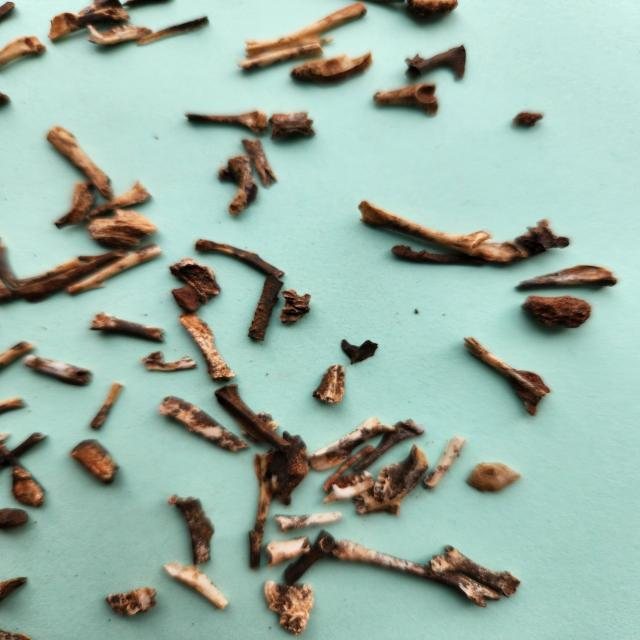fossil: (354, 197, 572, 270), (330, 535, 505, 608), (243, 1, 372, 64), (11, 247, 130, 312), (352, 438, 432, 520), (461, 332, 553, 402), (42, 121, 119, 202), (62, 242, 167, 300), (156, 393, 250, 456), (305, 414, 400, 476), (426, 542, 524, 599), (211, 382, 292, 450), (245, 446, 288, 574), (162, 490, 226, 567), (178, 308, 242, 384), (349, 416, 428, 476), (510, 287, 599, 339), (158, 561, 241, 615), (262, 427, 316, 510), (191, 236, 289, 281), (256, 575, 322, 637), (44, 0, 134, 44), (11, 251, 108, 289), (281, 528, 342, 588), (288, 47, 379, 87), (512, 262, 621, 295), (67, 434, 127, 490), (214, 149, 262, 217), (84, 178, 158, 222), (88, 206, 162, 250), (85, 308, 168, 346), (501, 362, 555, 420), (166, 255, 226, 307), (401, 41, 471, 85), (243, 274, 287, 344), (369, 80, 444, 121), (235, 40, 325, 74), (178, 106, 271, 138), (320, 442, 375, 496), (388, 240, 490, 269), (419, 432, 467, 492), (47, 180, 102, 232), (136, 14, 213, 49), (19, 353, 96, 388), (99, 583, 164, 621), (0, 429, 54, 472), (240, 136, 280, 192), (464, 459, 524, 495), (273, 508, 348, 536), (321, 469, 379, 505), (86, 380, 126, 432), (398, 0, 466, 30), (306, 362, 350, 408), (266, 107, 319, 145), (86, 20, 157, 48), (0, 30, 50, 69), (263, 533, 314, 571), (9, 461, 46, 510), (0, 503, 42, 544), (237, 408, 282, 444), (276, 288, 316, 328), (138, 348, 202, 373), (500, 104, 555, 133), (336, 336, 384, 367), (0, 572, 38, 607), (0, 338, 38, 370), (0, 393, 32, 421), (0, 0, 21, 27)
